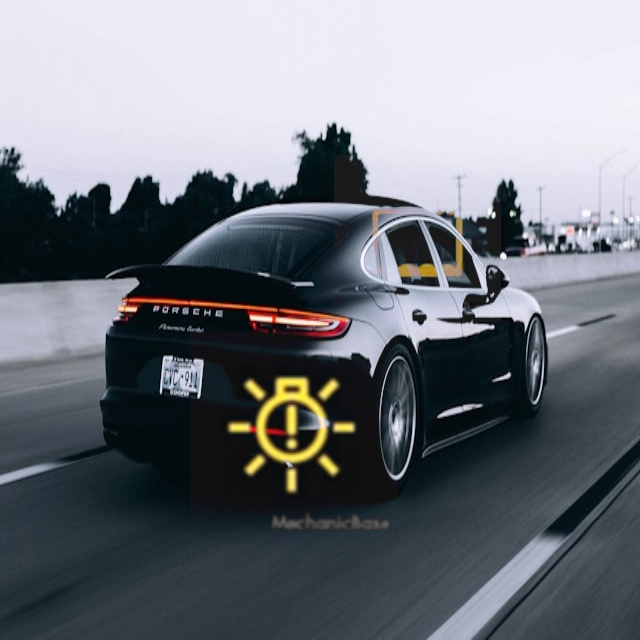symbol: (190, 332, 398, 540), (334, 155, 501, 322)
